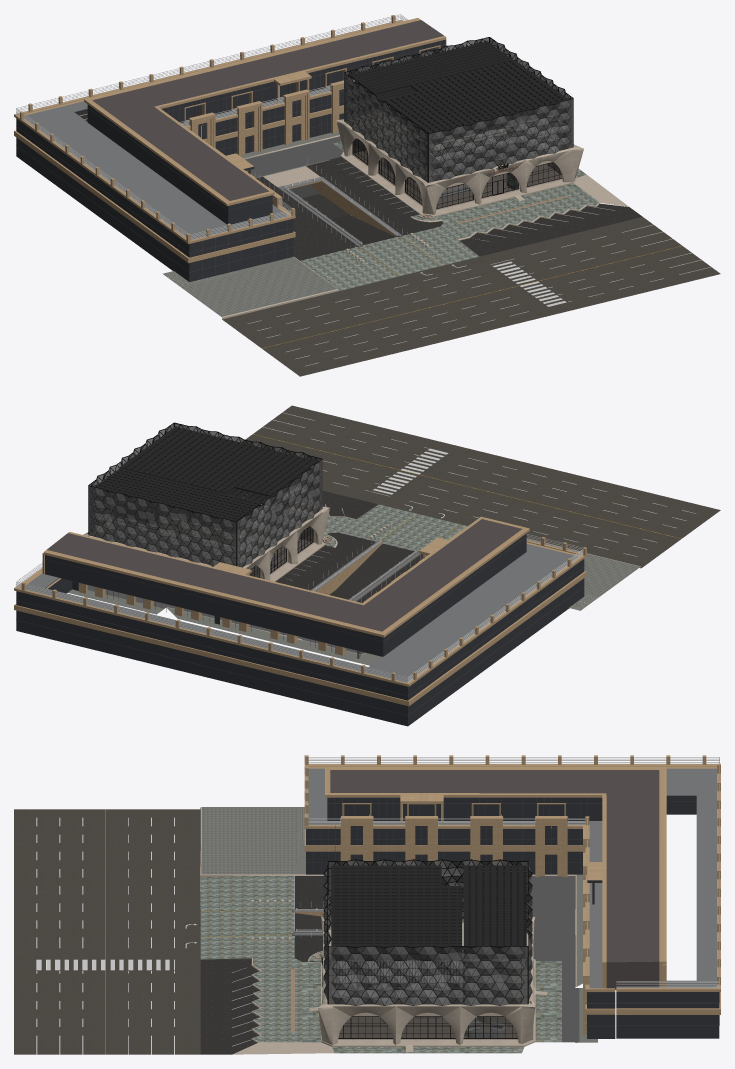
File: mundo-coffeeshop-v1.glb
3 views of the same model, one above another, from view 1: azimuth 30°, elevation 25°; view 2: azimuth 150°, elevation 25°; view 3: azimuth 270°, elevation 25° (orthographic). The views are drawn at different scales.
Parts seen in each view (by area): view 1: Plane.001, Cube, Plane.090, Icosphere.002, Icosphere.002_Material_0.001, Plane, Plane.067, Icosphere.002_Material_0.002, Plane.004; view 2: Cube, Plane.001, Plane.090, Icosphere.002, Plane.004, Icosphere.002_Material_0.002, Plane, Icosphere.002_Material_0.001, Icosphere.002_Material_0.003, Plane.003; view 3: Plane.001, Cube, Plane.090, Icosphere.002, Plane.004, Plane.067, Plane, Icosphere.002_Material_0.001, Cube_Material.006_0.001.
Boxes of the visible parts, left/top/right/bottom form: Plane.001: left=162, top=113, right=720, bottom=376; Cube: left=14, top=14, right=446, bottom=281; Plane.090: left=263, top=40, right=568, bottom=247; Icosphere.002: left=344, top=37, right=573, bottom=182; Icosphere.002_Material_0.001: left=344, top=72, right=573, bottom=182; Plane: left=351, top=64, right=567, bottom=143; Plane.067: left=416, top=115, right=567, bottom=172; Icosphere.002_Material_0.002: left=357, top=38, right=565, bottom=180; Plane.004: left=356, top=123, right=565, bottom=181; Cube: left=14, top=516, right=586, bottom=726; Plane.001: left=68, top=405, right=720, bottom=665; Plane.090: left=95, top=426, right=421, bottom=601; Icosphere.002: left=88, top=423, right=322, bottom=567; Plane.004: left=96, top=510, right=310, bottom=565; Icosphere.002_Material_0.002: left=91, top=426, right=308, bottom=562; Plane: left=95, top=445, right=316, bottom=532; Icosphere.002_Material_0.001: left=91, top=422, right=321, bottom=549; Icosphere.002_Material_0.003: left=88, top=485, right=271, bottom=566; Plane.003: left=160, top=515, right=262, bottom=553; Plane.001: left=14, top=807, right=597, bottom=1054; Cube: left=304, top=755, right=720, bottom=1038; Plane.090: left=292, top=865, right=526, bottom=1003; Icosphere.002: left=323, top=859, right=532, bottom=1005; Plane.004: left=336, top=959, right=520, bottom=1003; Plane.067: left=335, top=960, right=458, bottom=986; Plane: left=332, top=882, right=526, bottom=959; Icosphere.002_Material_0.001: left=323, top=859, right=527, bottom=993; Cube_Material.006_0.001: left=306, top=826, right=582, bottom=874.
Bounding box in the file's own units: 75.45 × 16.09 × 91.93.
60 materials, 13 textured.
